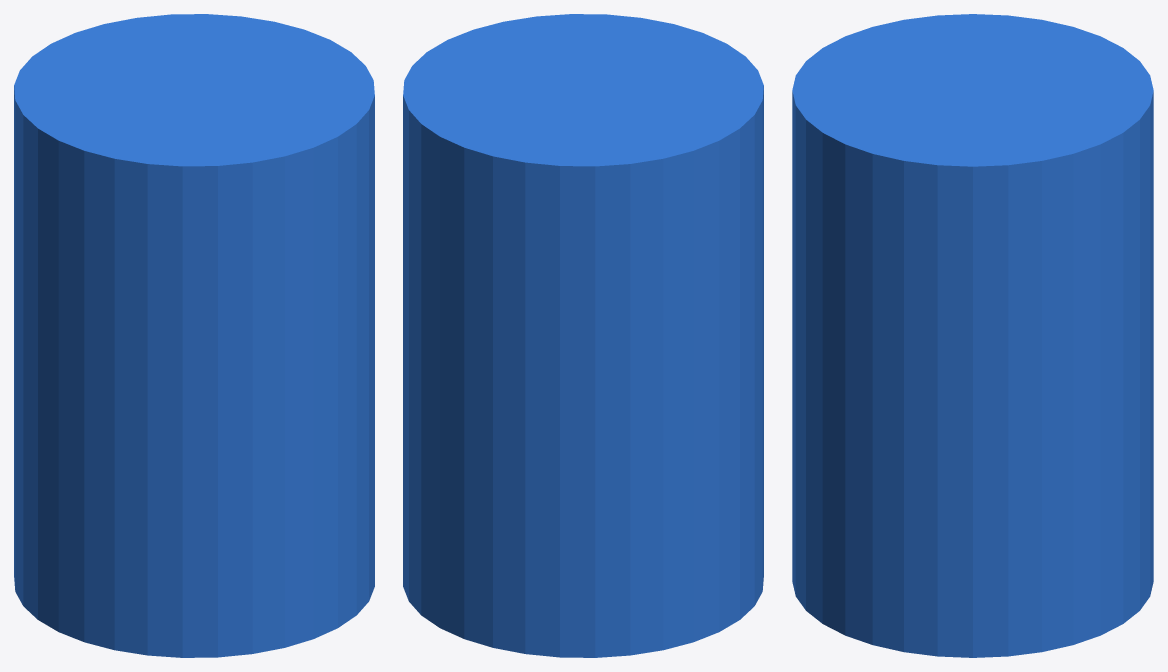
The picture shows the model from 3 angles, left to right: view 1: azimuth 30°, elevation 25°; view 2: azimuth 150°, elevation 25°; view 3: azimuth 270°, elevation 25°; orthographic projection.
Parts seen in each view (by area): view 1: Cylinder; view 2: Cylinder; view 3: Cylinder.
Boxes of the visible parts, x1,y1,x2,y2 form: Cylinder: (14, 14, 374, 657); Cylinder: (403, 14, 763, 657); Cylinder: (792, 14, 1153, 657).
Bounding box in the file's own units: 2 × 3 × 2.
